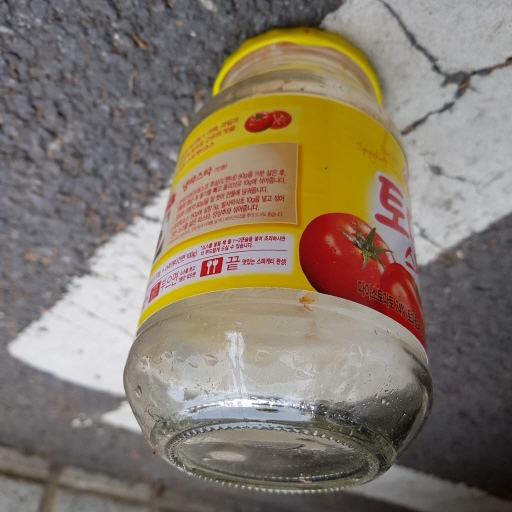Glass_5: (126, 27, 432, 492)
